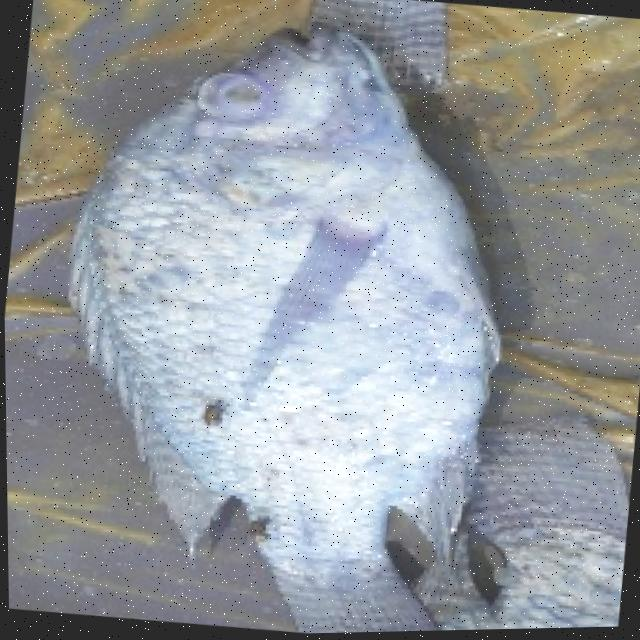Non-Fresh: (46, 0, 545, 639)
